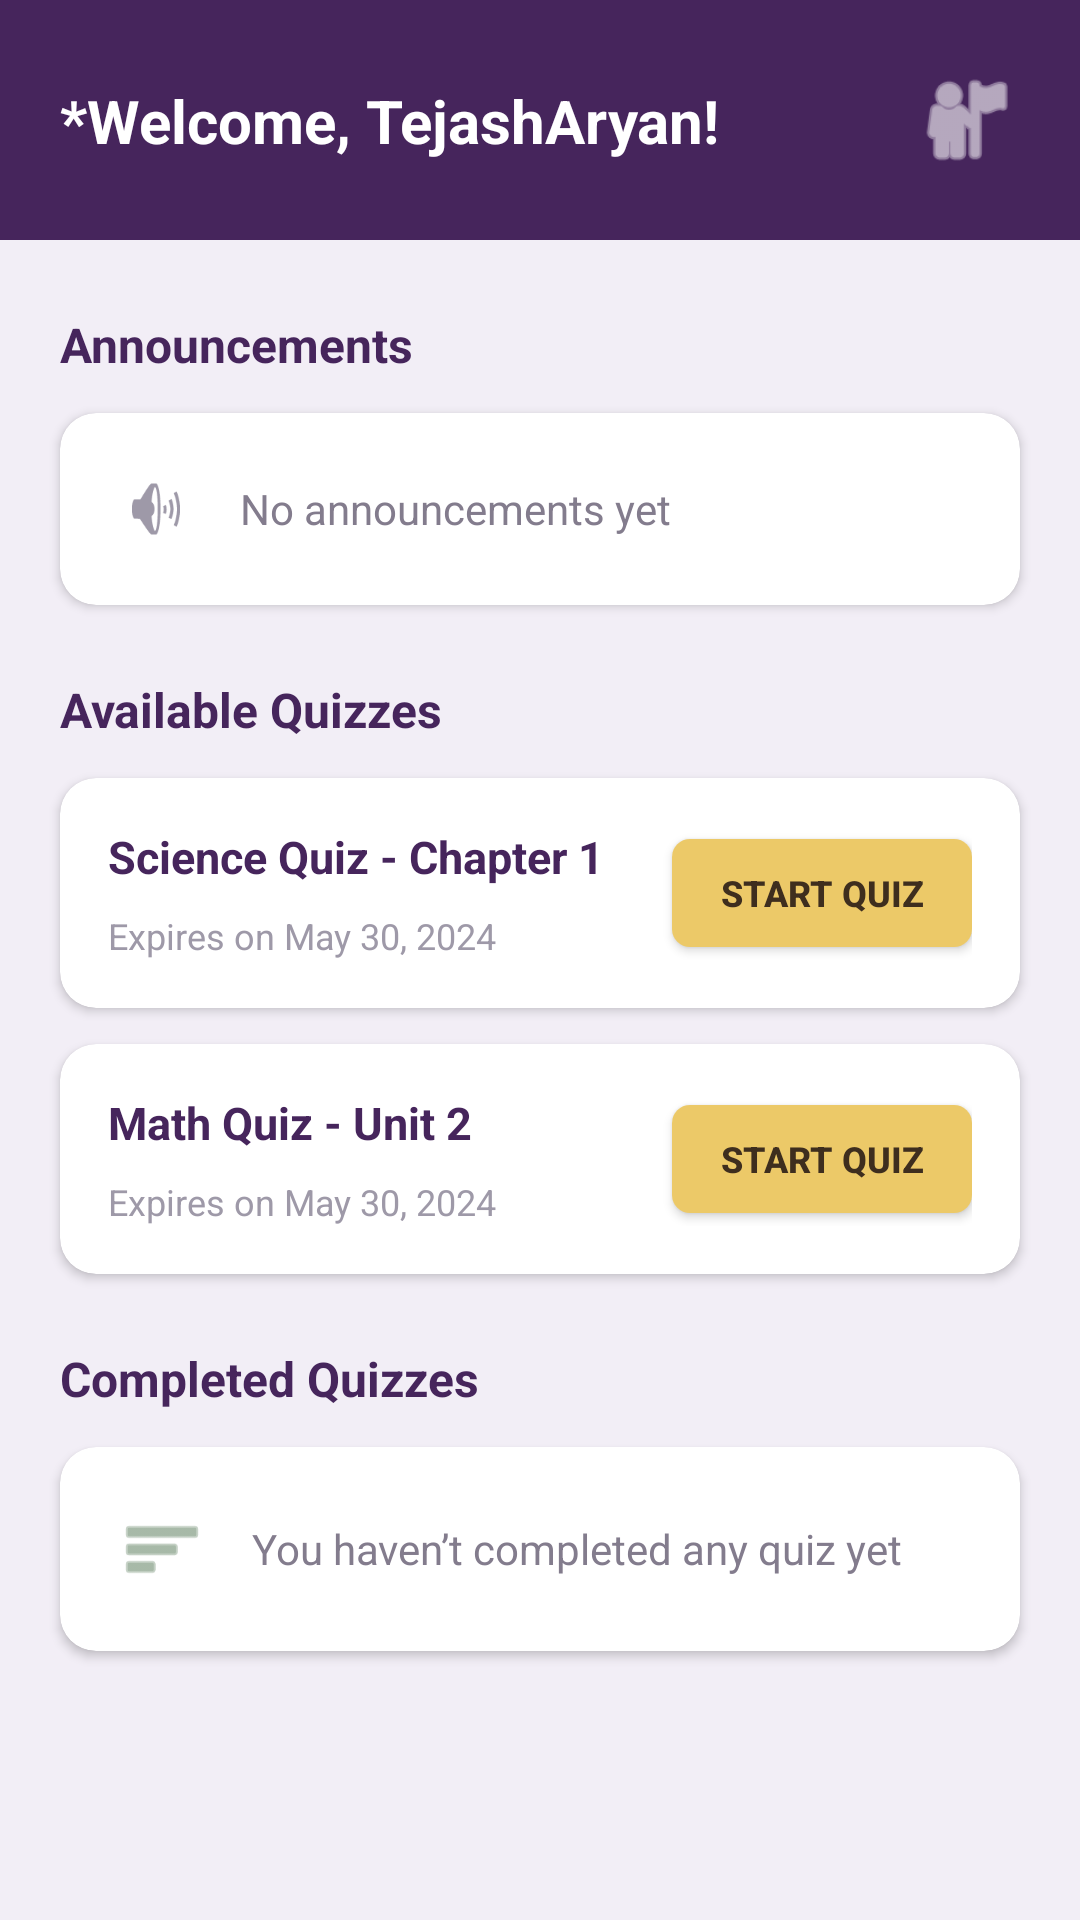

Where to tap for icons on this 1080w x 1920h app screen, as point (x, y):
lock silent mode off: point (156, 509)
myplaces: point (967, 120)
sort by size: point (162, 1549)
